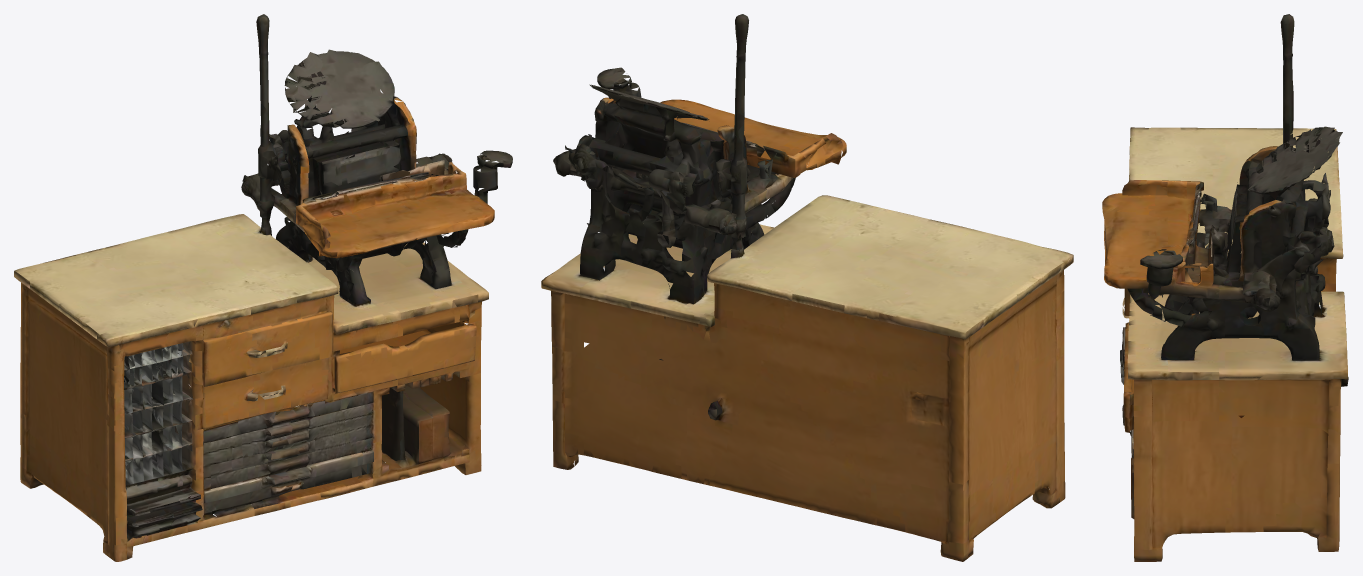
Rendered from letterpress.glb.
3 views of the same model, side by side, from view 1: azimuth 30°, elevation 25°; view 2: azimuth 150°, elevation 25°; view 3: azimuth 270°, elevation 25° (orthographic). The views are drawn at different scales.
Visible parts, largest first — view 1: Desk; view 2: Desk; view 3: Desk.
Boxes of the visible parts, x1,y1,x2,y2 form: Desk: [14, 14, 512, 561]; Desk: [541, 14, 1073, 561]; Desk: [1102, 14, 1348, 561].
Size of the model in its own units: 0.9675 by 0.981 by 0.4638.
Materials: 1 (1 with a texture image).
